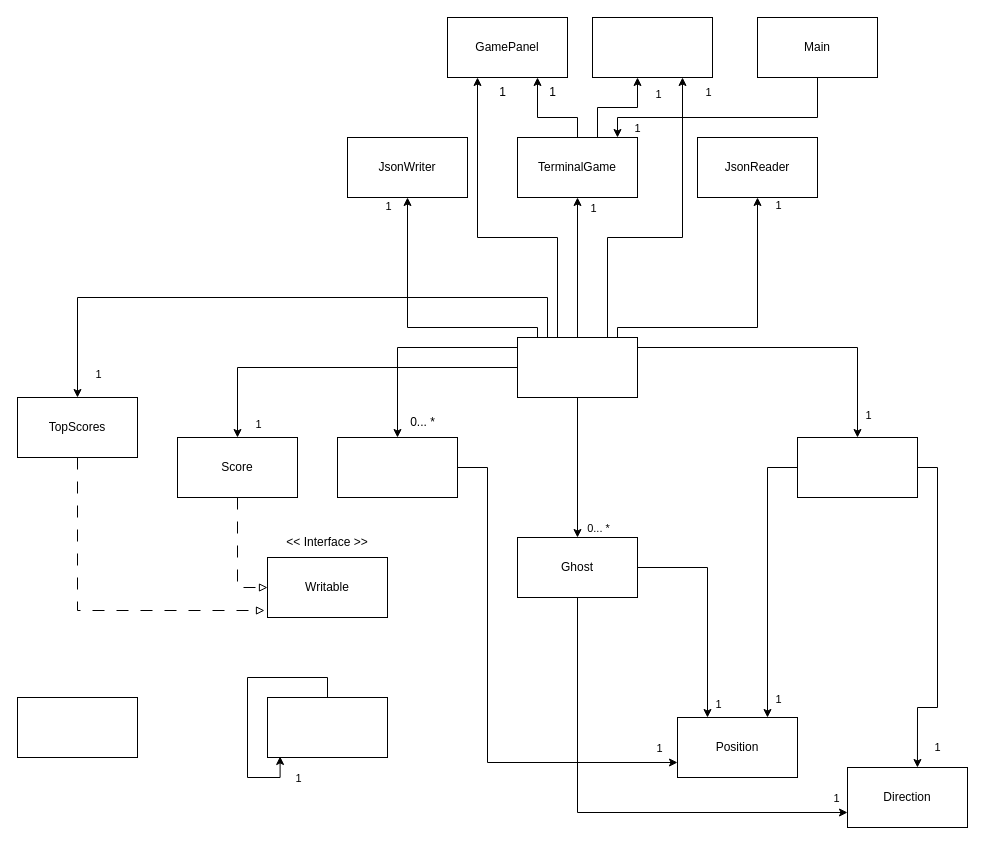
This 985x845 diagram has some shape labels left out. Each missing label, with the centre of its shape:
"Coin" goes at [397,467].
"Event" goes at [77,727].
"EventLog" goes at [327,727].
"Game" goes at [577,367].
"Pacman" goes at [857,467].
"ScorePanel" goes at [652,47].
